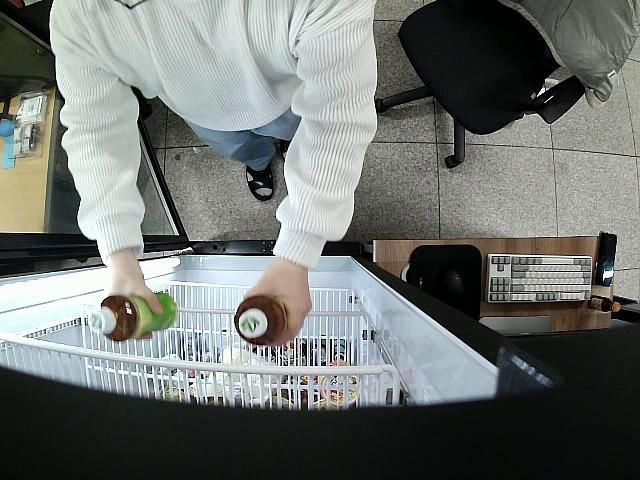19_17cha: (87, 291, 178, 342), (234, 295, 288, 345)
